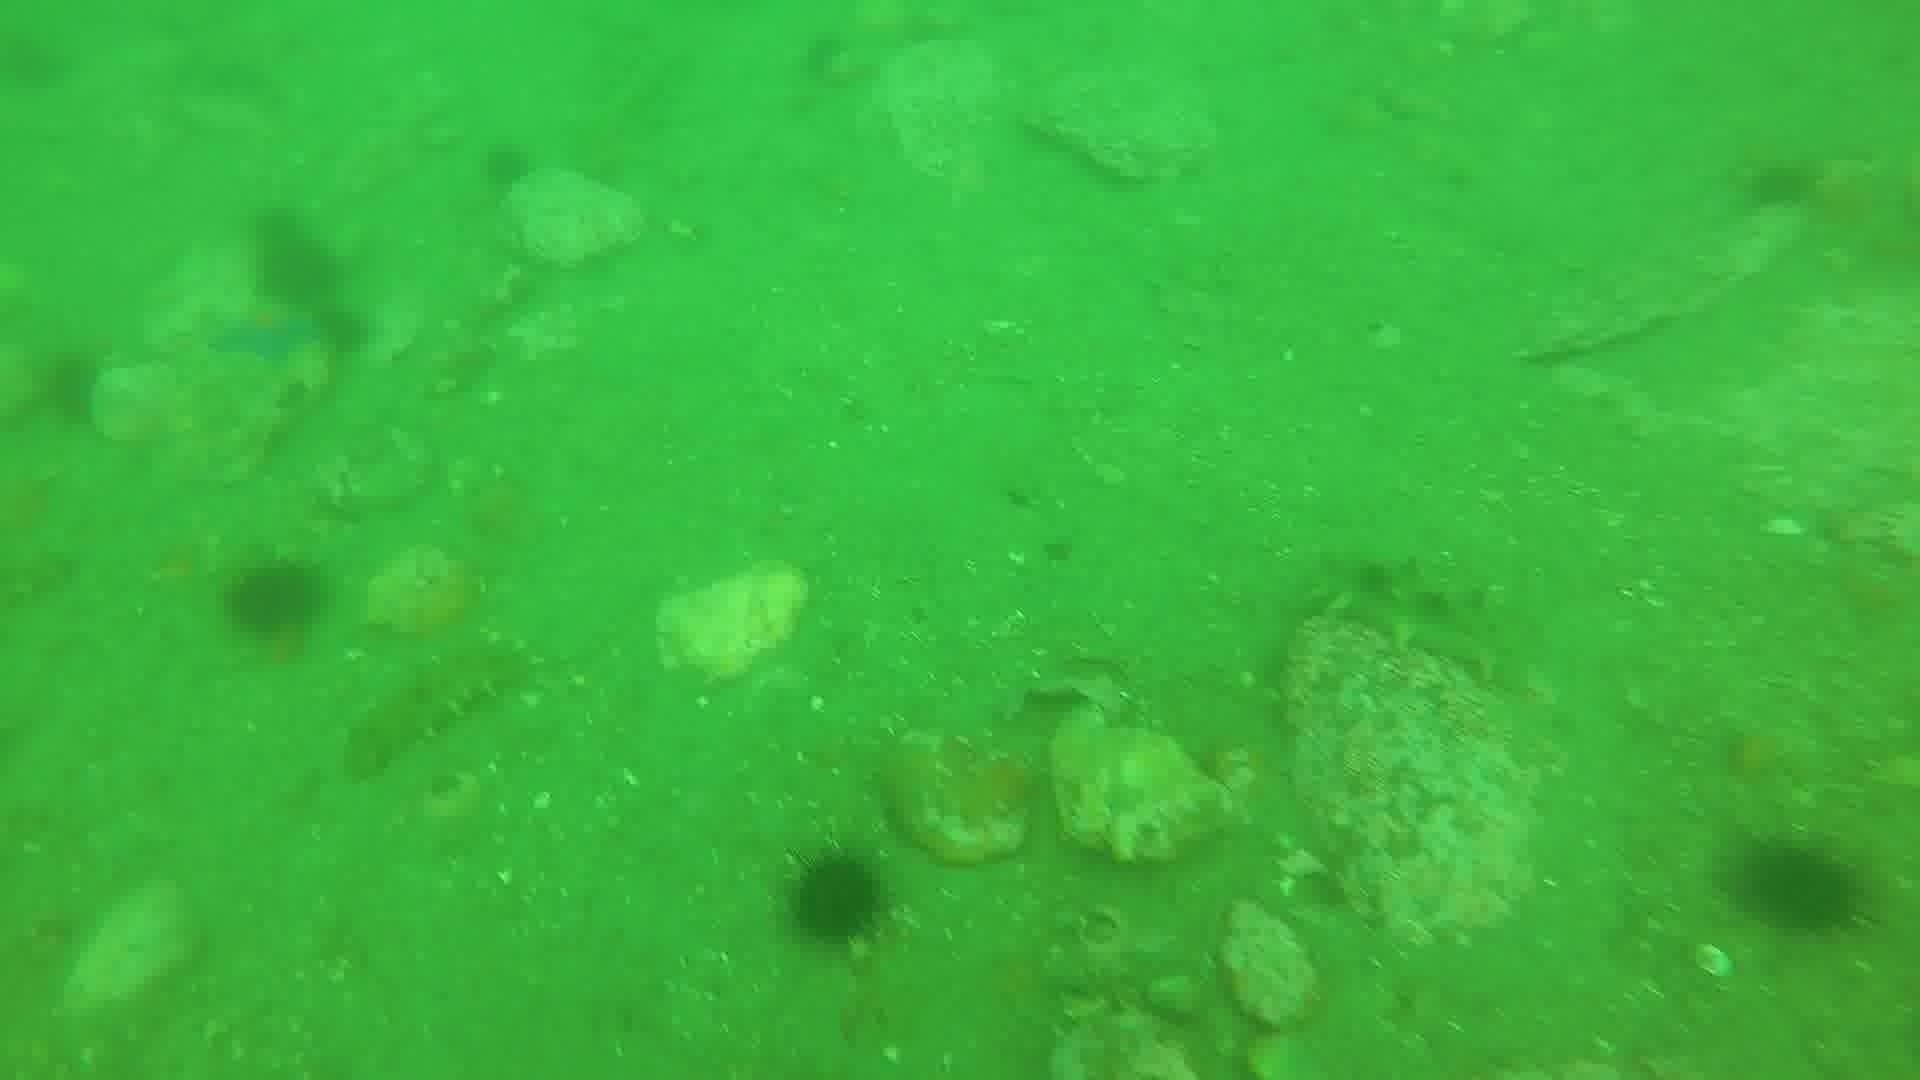echinus: (1724, 833, 1870, 939), (782, 848, 894, 952), (222, 555, 328, 645), (251, 228, 344, 309), (34, 345, 108, 427), (1741, 156, 1822, 216), (307, 301, 376, 363), (473, 136, 538, 196)
holothurian: (1303, 543, 1516, 686), (338, 637, 530, 781)
starfish: (1, 463, 82, 615), (204, 291, 324, 369)
